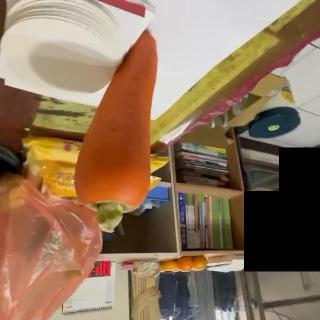carrot: (75, 31, 165, 233)
